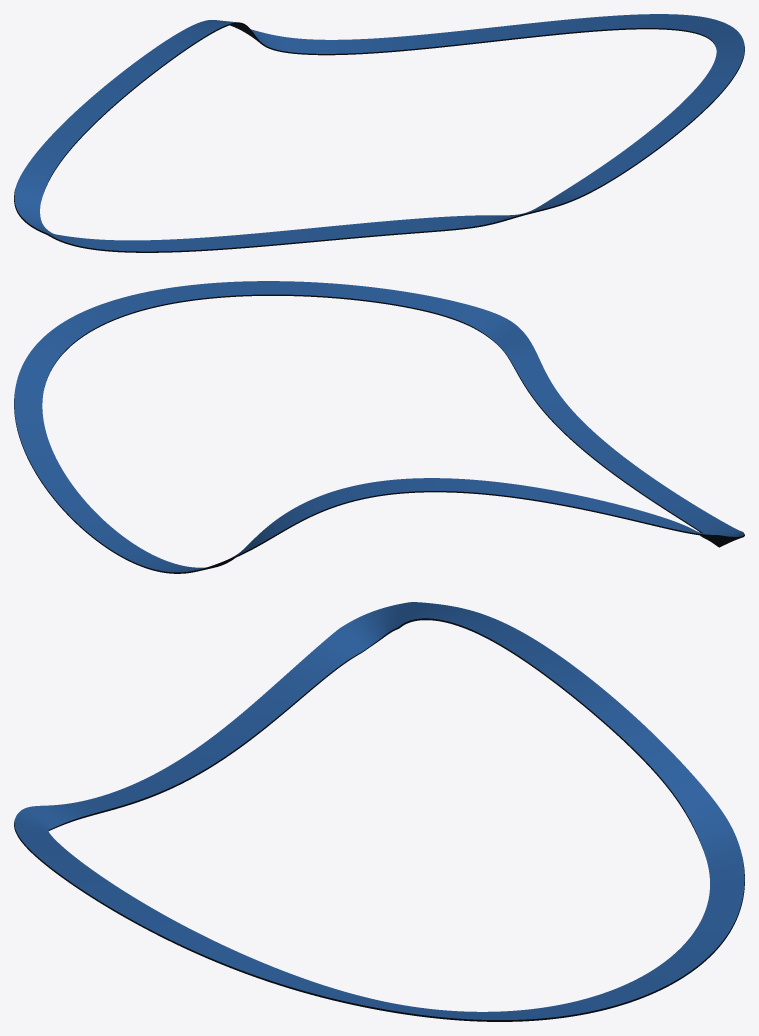
The model's file is qinda-bliss-track.obj.
The picture shows the model from 3 angles, top to bottom: view 1: azimuth 30°, elevation 25°; view 2: azimuth 150°, elevation 25°; view 3: azimuth 270°, elevation 25°; orthographic projection. The views are drawn at different scales.
Visible parts, largest first — view 1: prismatic-road_part_0, carbon-road-chassis_part_1; view 2: prismatic-road_part_0, carbon-road-chassis_part_1; view 3: prismatic-road_part_0, carbon-road-chassis_part_1.
Part boxes in pixels (box(x1,y1,x2,y2)): prismatic-road_part_0: box(14, 14, 744, 251); carbon-road-chassis_part_1: box(14, 22, 744, 252); prismatic-road_part_0: box(14, 281, 744, 572); carbon-road-chassis_part_1: box(14, 294, 744, 573); prismatic-road_part_0: box(14, 602, 744, 1019); carbon-road-chassis_part_1: box(14, 618, 744, 1021).
Bounding box in the file's own units: 404 × 53.04 × 292.
